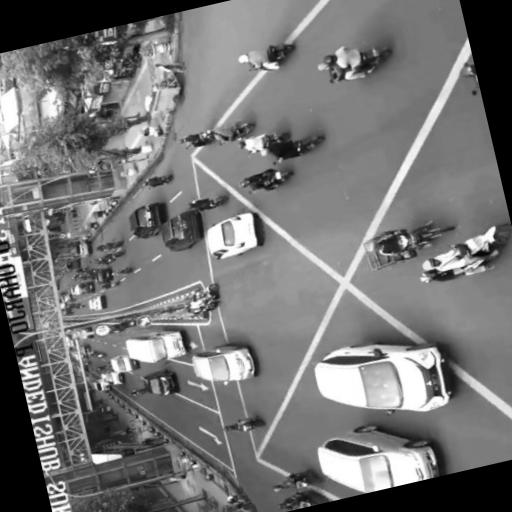bus: (126, 331, 186, 363)
car: (315, 343, 451, 414), (318, 425, 439, 492), (207, 213, 261, 259), (193, 344, 256, 383), (161, 210, 202, 251), (129, 203, 162, 238), (143, 370, 179, 395), (111, 355, 139, 372), (102, 371, 124, 385), (95, 267, 113, 284), (75, 241, 92, 257), (89, 295, 106, 310), (79, 281, 95, 294), (93, 380, 111, 391), (65, 259, 81, 271), (76, 328, 93, 338), (79, 345, 91, 357), (71, 284, 83, 295), (66, 335, 75, 347), (61, 294, 72, 302), (63, 308, 73, 316), (61, 302, 68, 309)
motorcycle: (455, 223, 511, 255), (398, 226, 455, 250), (361, 47, 392, 67), (198, 283, 220, 310), (462, 62, 479, 95), (295, 136, 324, 155), (267, 44, 294, 63), (296, 136, 324, 154), (296, 491, 325, 508), (292, 471, 319, 489), (264, 170, 293, 186), (239, 417, 265, 432), (234, 123, 254, 140), (264, 133, 290, 146), (210, 195, 228, 207), (199, 130, 214, 143), (100, 255, 116, 264), (110, 251, 125, 259), (160, 174, 172, 183), (108, 280, 120, 288), (120, 267, 133, 274), (110, 241, 123, 248), (137, 387, 150, 394), (97, 353, 106, 358), (79, 305, 86, 309)
